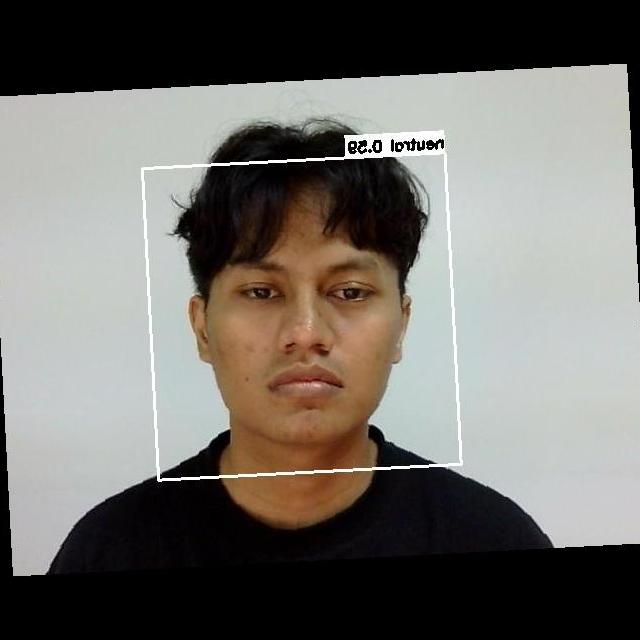Natural: (219, 238, 397, 425)
